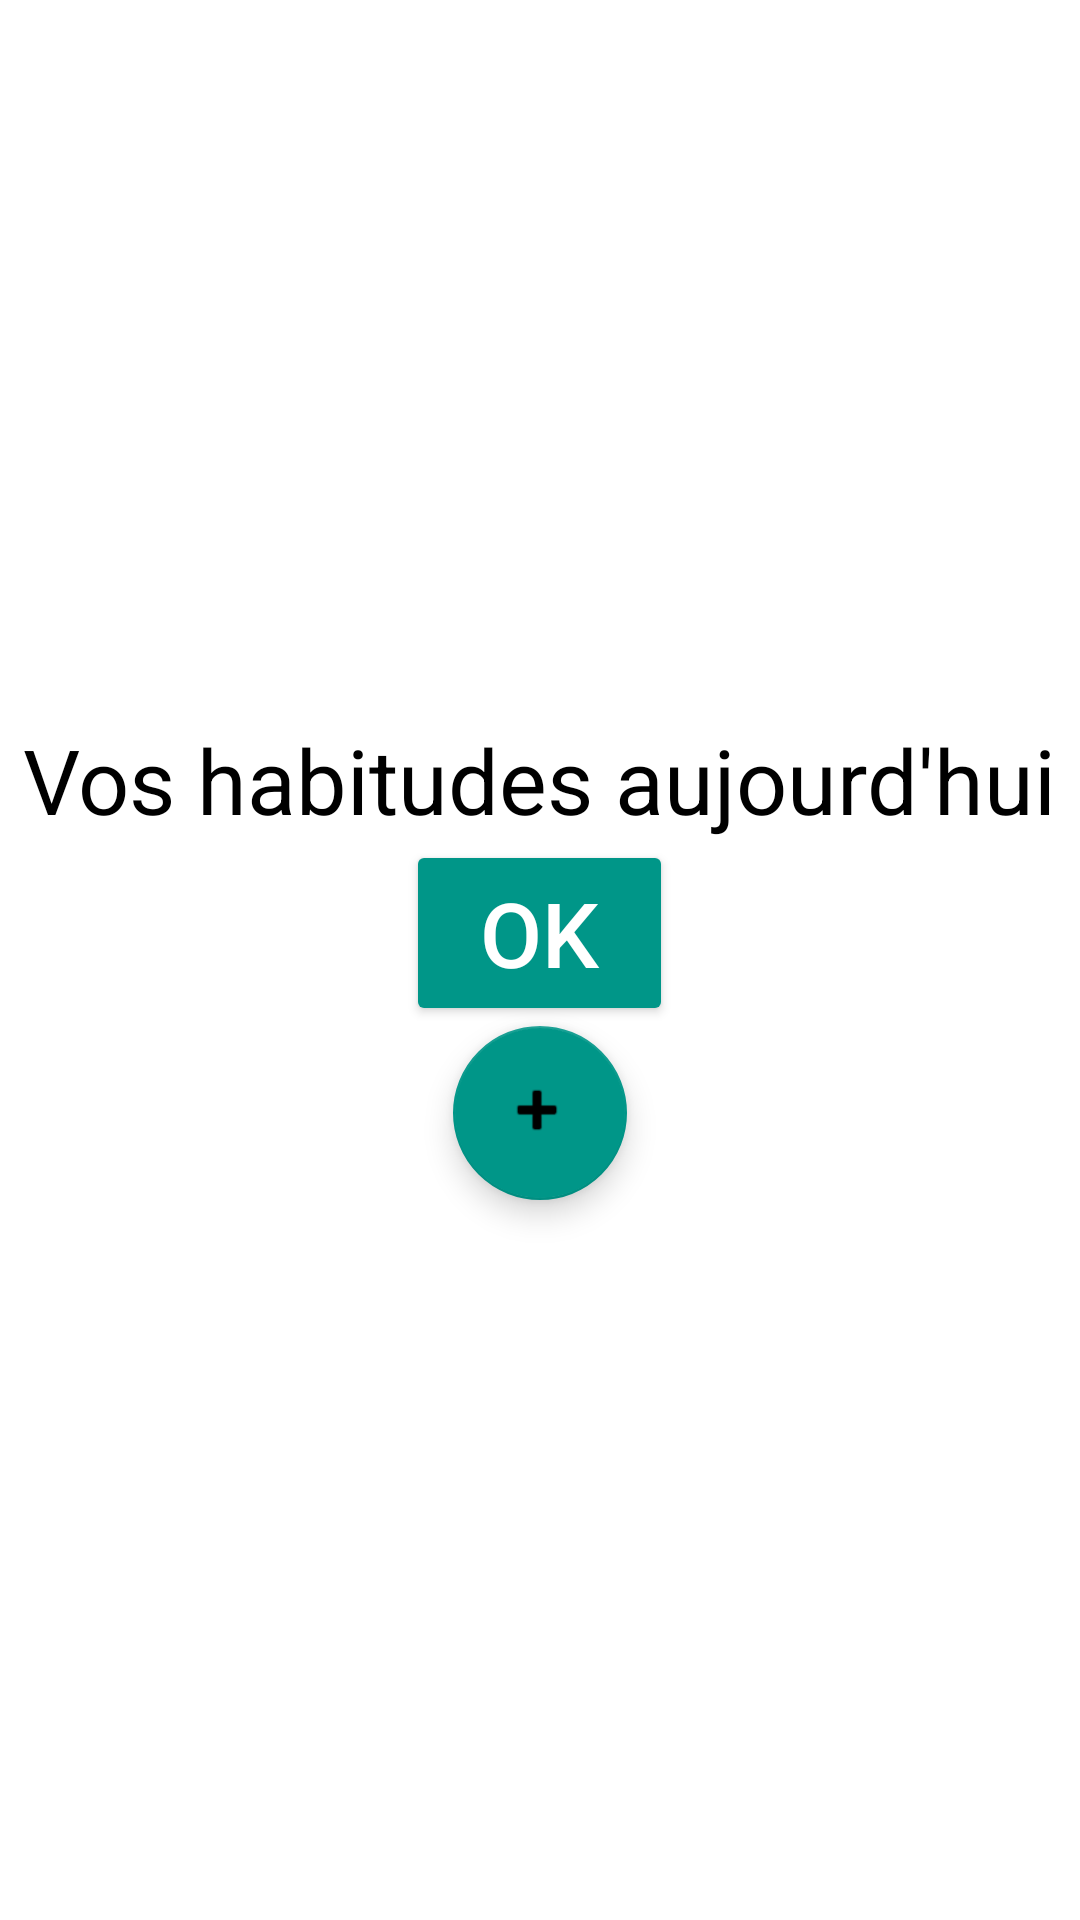

Icon click points for this 1080*1920 phone screenshot, format point (x, y):
add: point (540, 1113)
